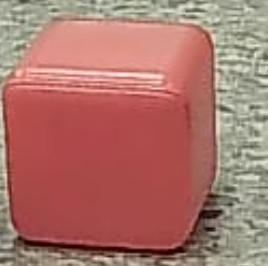orange_cube: (0, 16, 221, 258)
